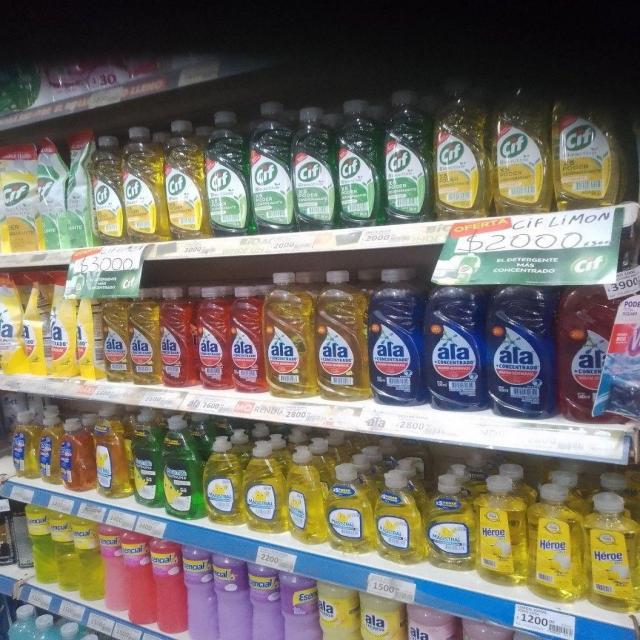ala_conc_amarillo: (315, 269, 366, 402), (265, 272, 314, 399), (130, 286, 159, 387), (100, 288, 128, 384)
ala_conc_azul: (486, 276, 554, 420), (424, 272, 483, 412), (368, 266, 422, 406)
ala_conc_rojo: (557, 280, 622, 422), (230, 284, 264, 395), (195, 285, 229, 391), (160, 285, 194, 389)
ala_crem_amarillo: (360, 589, 406, 640), (319, 580, 358, 640)
ala_crem_rosado: (408, 603, 458, 640)
ala_sachet_amarillo: (0, 273, 24, 375)
cif_conc_bot_amarilla: (554, 99, 626, 209), (433, 83, 488, 220), (491, 96, 549, 215), (165, 118, 205, 240), (124, 126, 164, 244), (92, 133, 123, 245)
cif_conc_botella_verde: (383, 89, 431, 224), (336, 98, 381, 228), (250, 102, 292, 234), (206, 110, 249, 236), (293, 104, 335, 231)
cif_conc_sachet_amarillo: (0, 143, 39, 253)
esencial: (75, 517, 101, 601), (51, 512, 76, 593), (27, 506, 52, 586)
heroe: (530, 480, 583, 602), (586, 491, 638, 612), (477, 474, 528, 586), (462, 616, 511, 640)
magistral_con_amarillo: (425, 472, 474, 572), (375, 468, 422, 565), (327, 463, 372, 555), (286, 445, 325, 545), (244, 440, 284, 535), (204, 436, 242, 526), (94, 406, 130, 499)
zorro: (61, 417, 93, 492), (10, 410, 37, 480), (39, 414, 59, 486)
